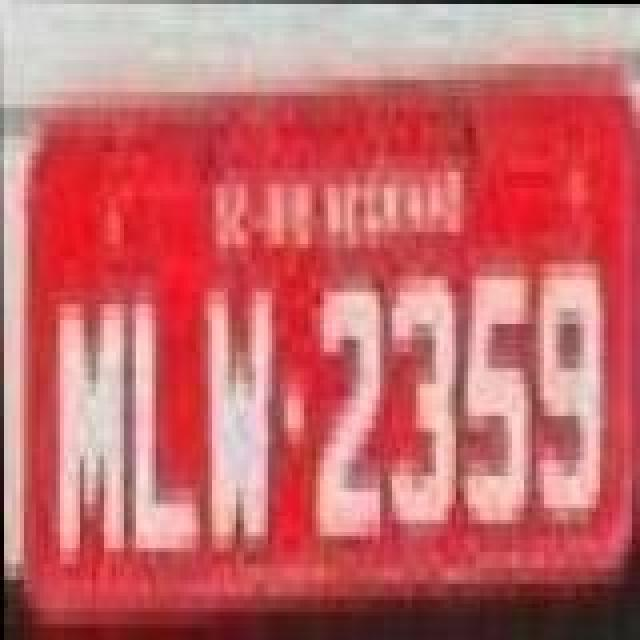2: (310, 278, 382, 542)
3: (384, 268, 460, 536)
5: (462, 268, 534, 528)
9: (534, 258, 606, 534)
L: (130, 294, 202, 554)
M: (54, 296, 126, 568)
W: (206, 292, 278, 560)
